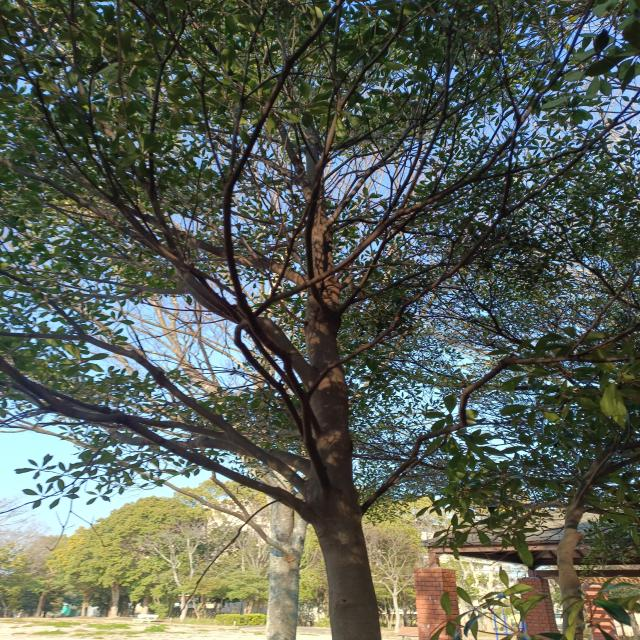Branch: (302, 208, 366, 555), (183, 276, 316, 388)
Twig: (306, 58, 640, 397), (233, 95, 541, 428), (223, 0, 345, 493), (12, 46, 237, 296), (0, 356, 312, 520), (1, 332, 306, 495), (360, 357, 638, 516), (325, 87, 456, 227), (317, 0, 401, 169), (148, 8, 191, 274), (49, 203, 182, 284), (103, 427, 309, 475), (46, 388, 224, 439), (12, 268, 183, 313), (271, 113, 317, 208)
